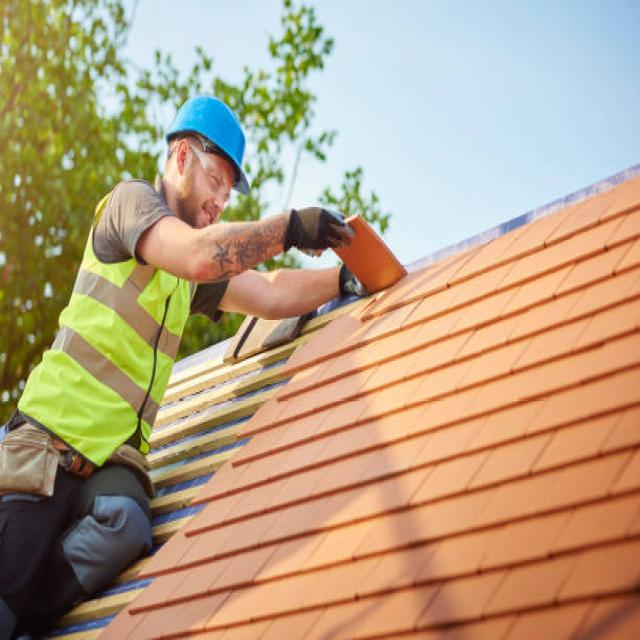gloves: (280, 204, 354, 257), (336, 257, 368, 298)
